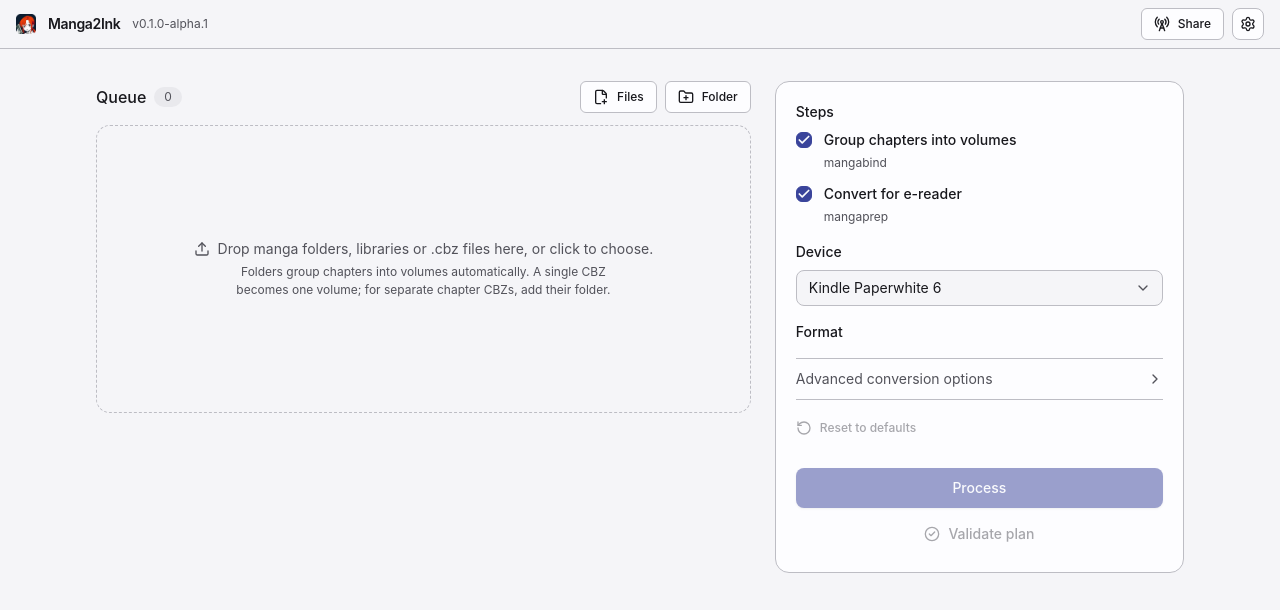
Test: process control in the queue › sends a folder straight to mangaprep as one book, without its volumes
Click the button "Folder".
click(708, 97)  # box x1=665 y1=81 x2=751 y2=113
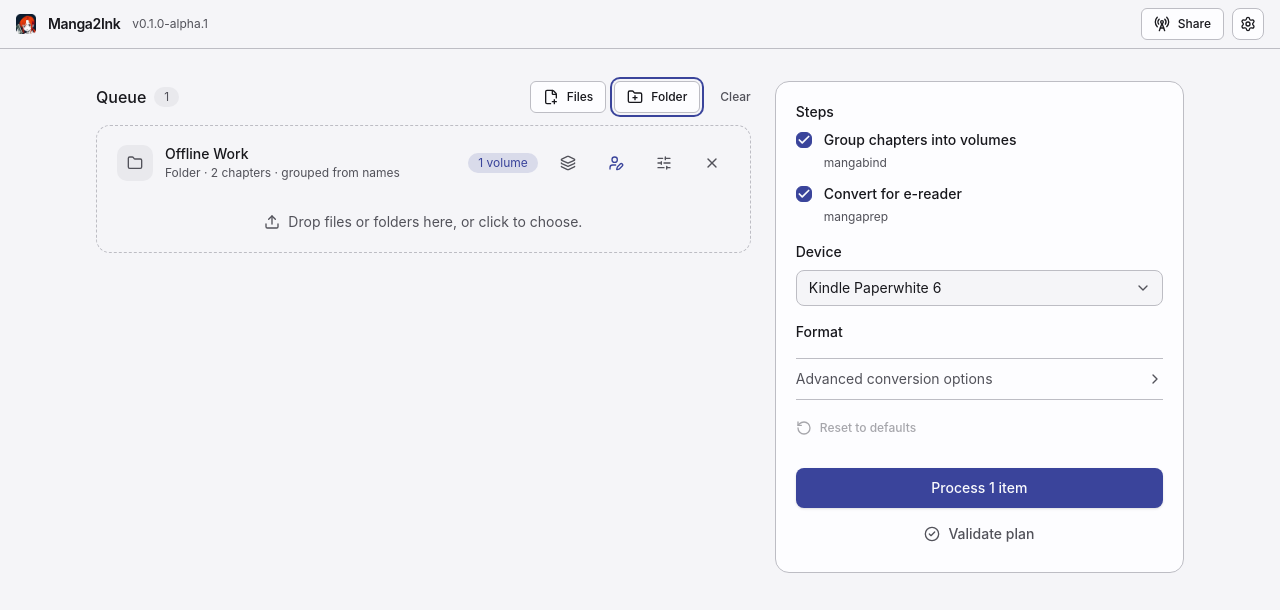
Click the checkbox named "Group chapters into volumes" next to "Group chapters into volumes".
click(804, 140)  # box x1=796 y1=132 x2=812 y2=148
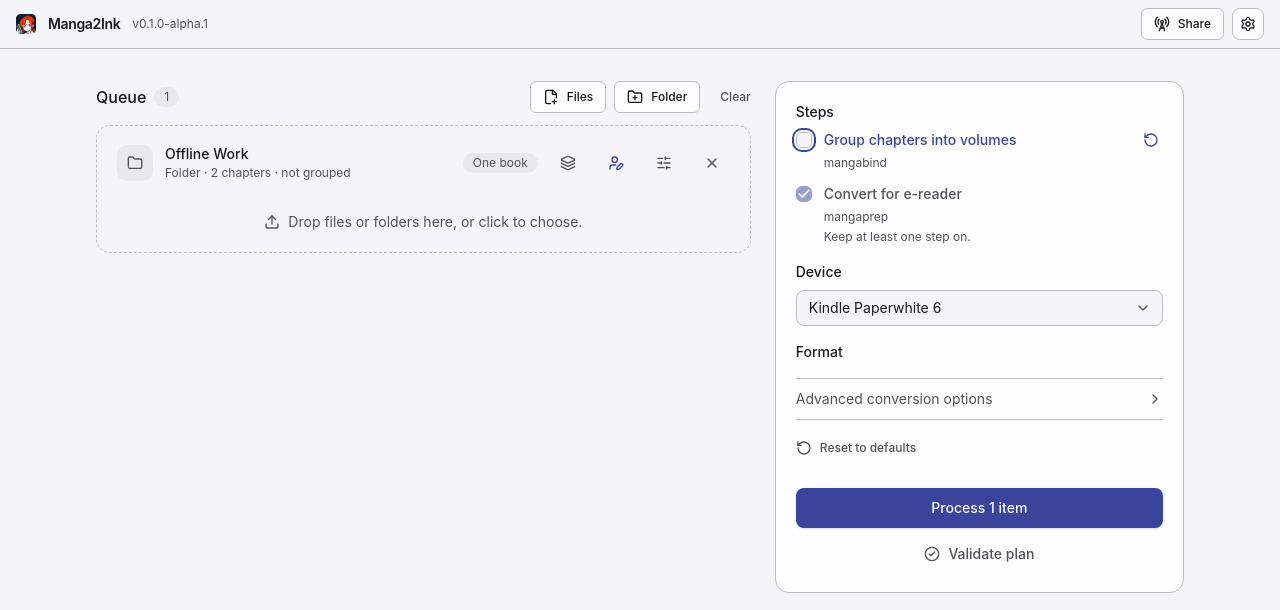
Expected: the button named "Edit books and volumes for Offline Work" is shown, x1=550 y1=145 x2=586 y2=181
Expected: the text "One book" is shown, x1=463 y1=153 x2=538 y2=173
Expected: the text "Folder · 2 chapters · not grouped" is shown, x1=165 y1=165 x2=351 y2=180
Click the button "Validate plan".
click(979, 554)  # box x1=796 y1=536 x2=1163 y2=572
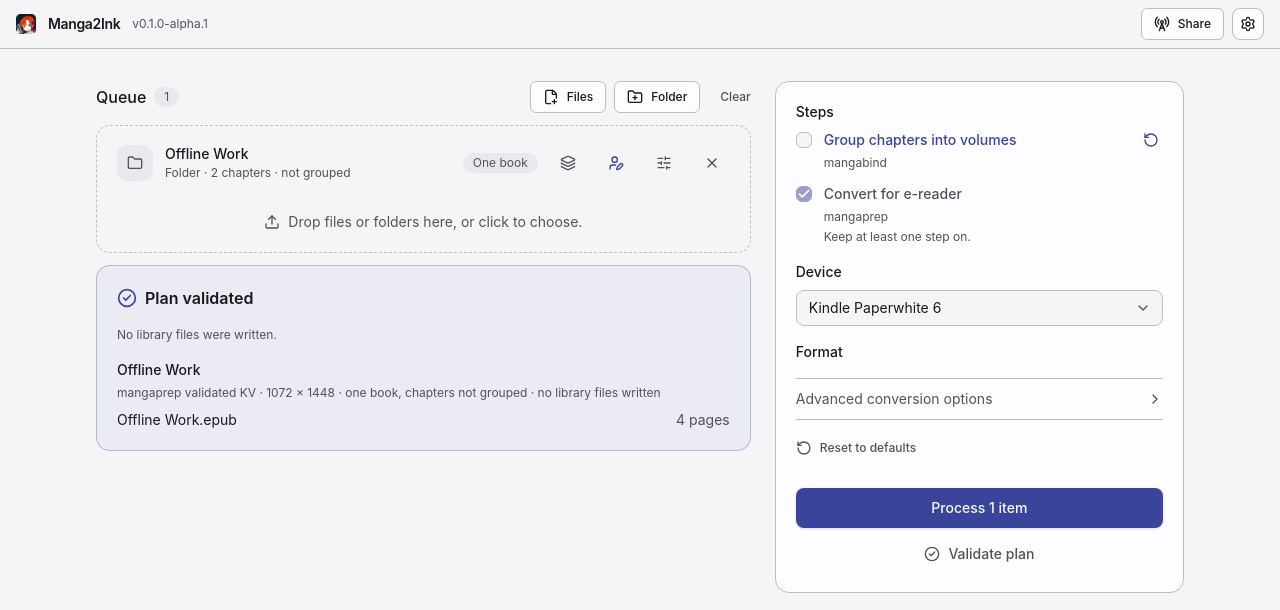
Expected: the heading "Plan validated" is shown, x1=145 y1=286 x2=254 y2=310
Click the button "Process 1 item".
click(979, 508)  # box x1=796 y1=488 x2=1163 y2=528
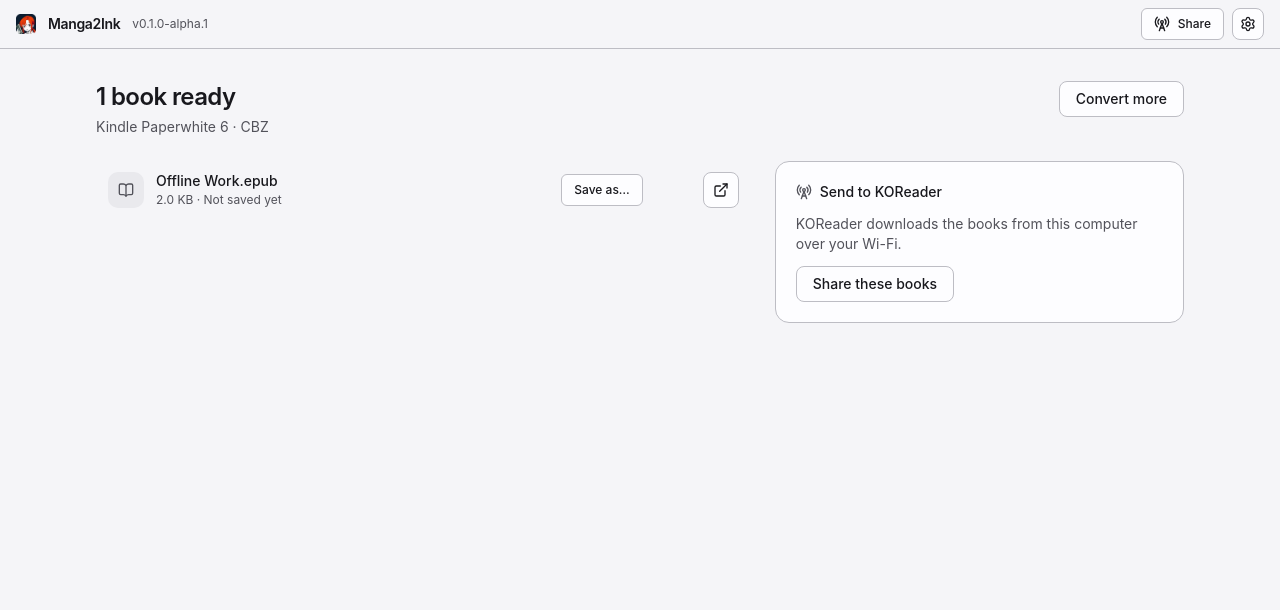
Expected: the heading "1 book ready" is shown, x1=96 y1=81 x2=235 y2=113
